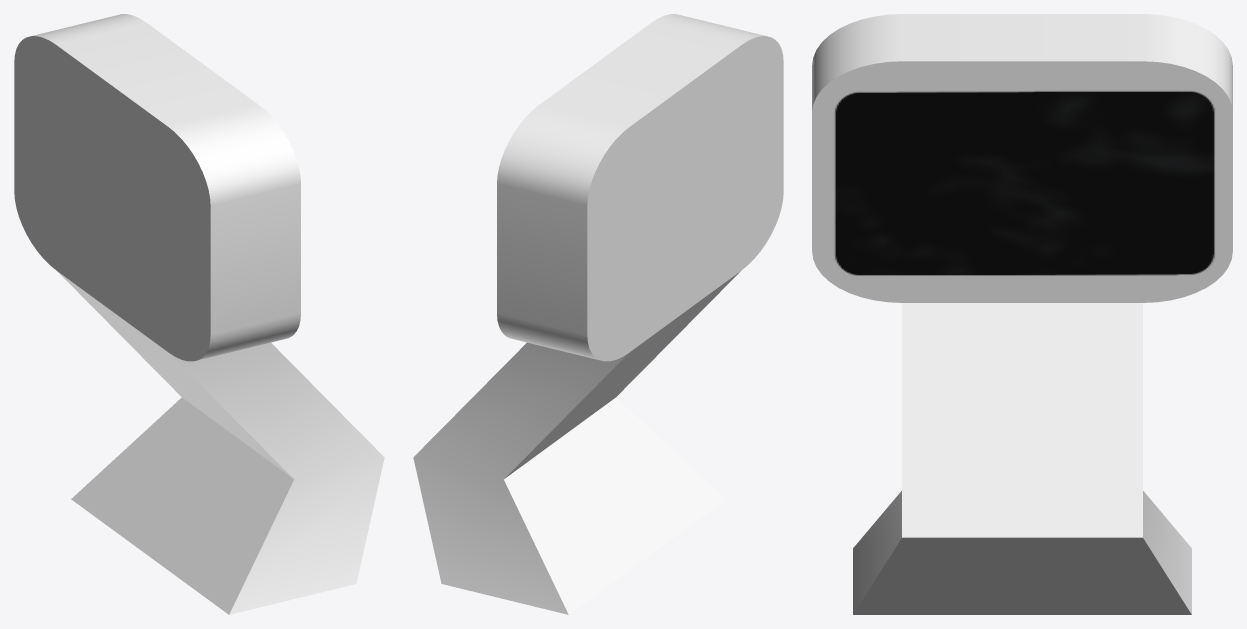
The model's file is futuristic_computer.glb.
3 views of the same model, side by side, from view 1: azimuth 30°, elevation 25°; view 2: azimuth 150°, elevation 25°; view 3: azimuth 270°, elevation 25° (orthographic). The views are drawn at different scales.
Visible parts, largest first — view 1: Computer_Futuristic; view 2: Computer_Futuristic; view 3: Computer_Futuristic.
Part boxes in pixels (x1,y1,x2,y2): Computer_Futuristic: (14,14,384,614); Computer_Futuristic: (413,14,783,614); Computer_Futuristic: (812,14,1232,614).
Bounding box in the file's own units: 2.78 × 5.91 × 4.38.
Materials: 1 (1 with a texture image).
